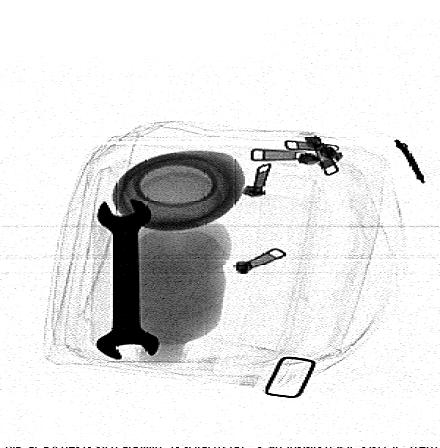Wrench: (93, 196, 163, 363)
